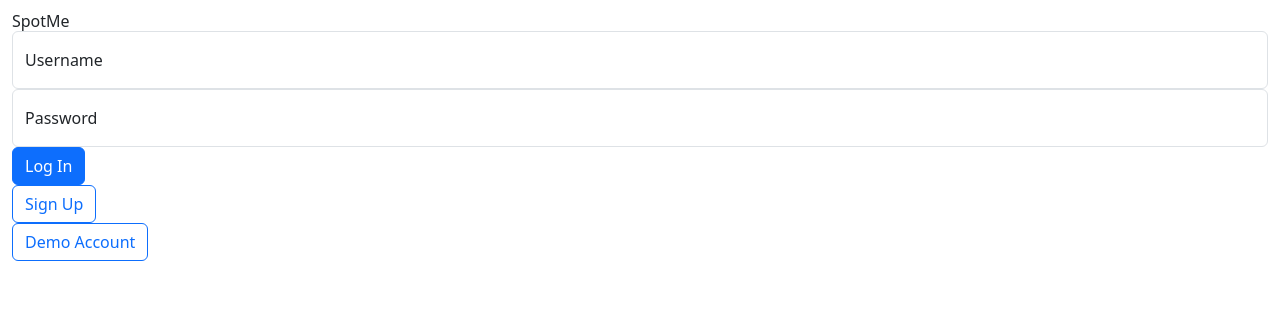
Test: LogInPage › should display an error message if the inputs are empty.
Click the button with test id "form-submit-button" at (49, 166), box [12, 147, 85, 185]
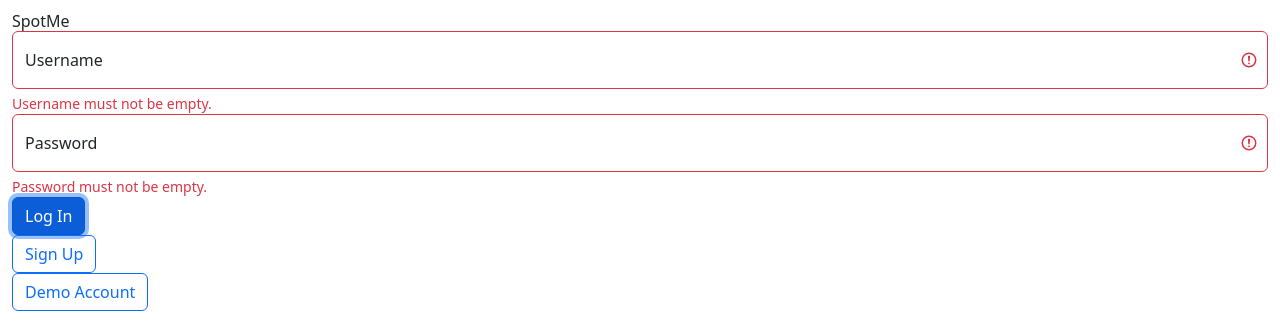
Check: the list item "Username must not be empty." is shown, box [12, 94, 212, 113]
Check: the list item "Password must not be empty." is shown, box [12, 177, 207, 196]
